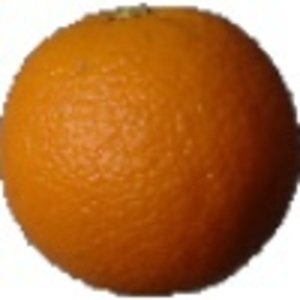laranja: (2, 5, 296, 292)
